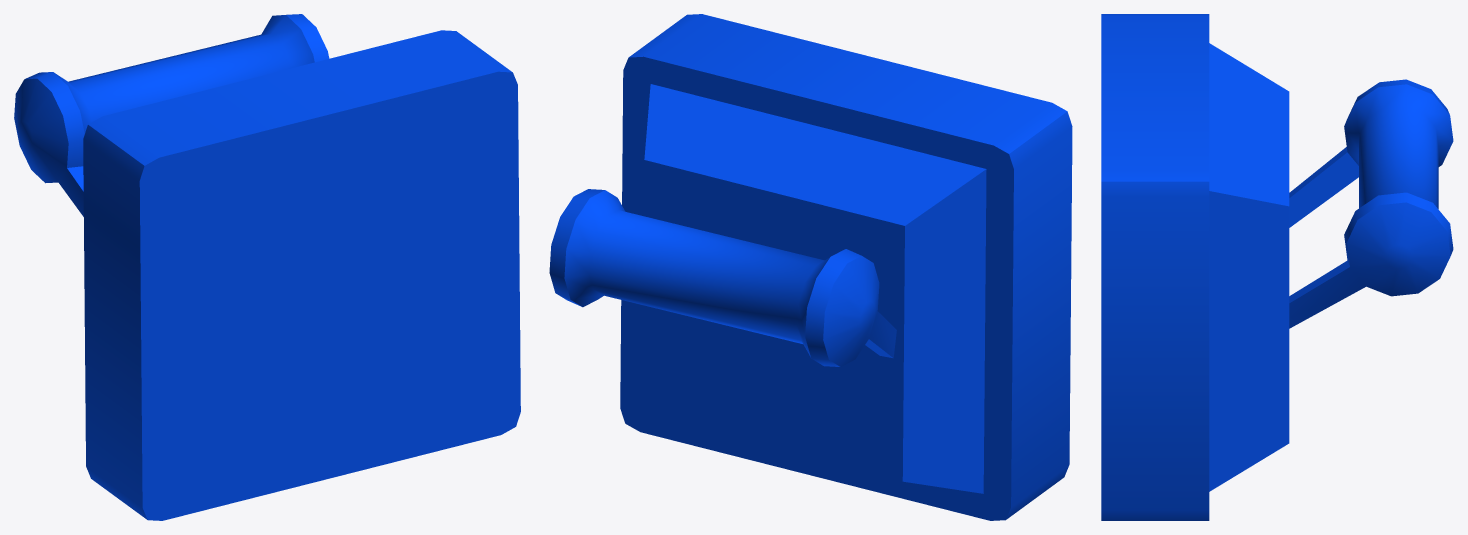
File: LeverOff_Low_Model.FBX
3 views of the same model, side by side, from view 1: azimuth 30°, elevation 25°; view 2: azimuth 150°, elevation 25°; view 3: azimuth 270°, elevation 25° (orthographic). The views are drawn at different scales.
Visible parts, largest first — view 1: LeverOff; view 2: LeverOff; view 3: LeverOff.
Boxes of the visible parts, <box> form: LeverOff: <box>14,14,520,520</box>; LeverOff: <box>549,14,1072,520</box>; LeverOff: <box>1101,14,1453,520</box>.
Size of the model in its own units: 30.6 by 28.18 by 25.72.
